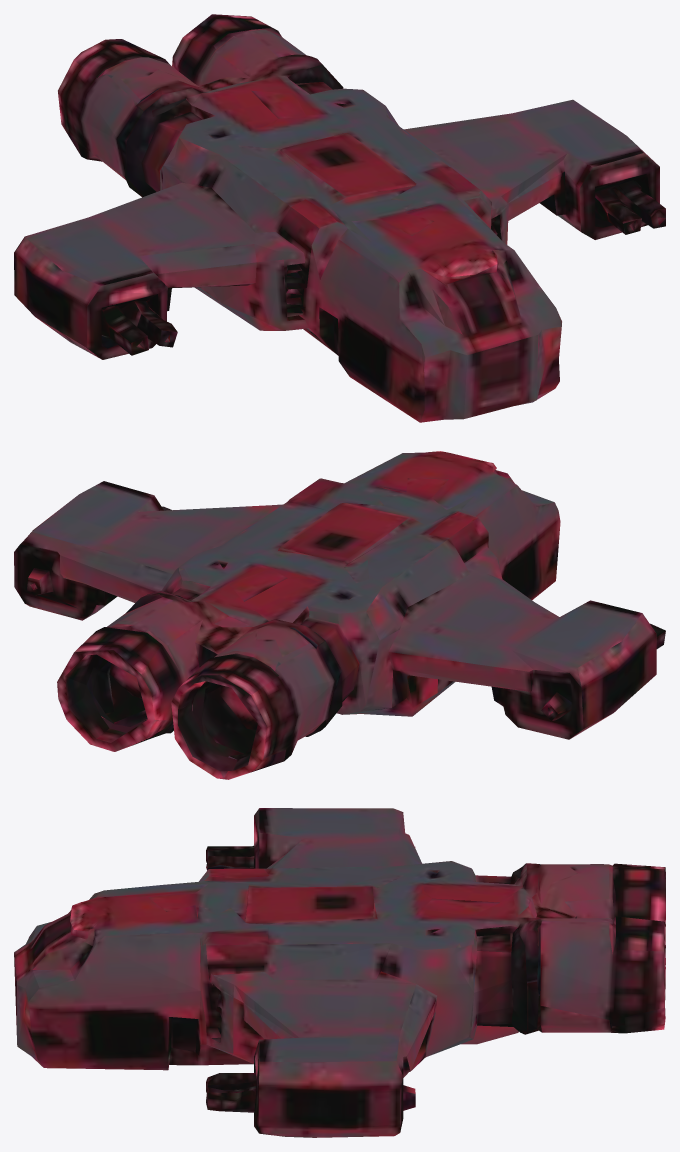
Rendered from enemy-heavy-s10.glb.
The picture shows the model from 3 angles, top to bottom: view 1: azimuth 30°, elevation 25°; view 2: azimuth 150°, elevation 25°; view 3: azimuth 270°, elevation 25°; orthographic projection. The views are drawn at different scales.
Visible parts, largest first — view 1: 9adbb147-c497-479b-8c6b-6f7a91005b4a_texturing.obj; view 2: 9adbb147-c497-479b-8c6b-6f7a91005b4a_texturing.obj; view 3: 9adbb147-c497-479b-8c6b-6f7a91005b4a_texturing.obj.
Boxes of the visible parts, <box> form: 9adbb147-c497-479b-8c6b-6f7a91005b4a_texturing.obj: <box>14,14,665,422</box>; 9adbb147-c497-479b-8c6b-6f7a91005b4a_texturing.obj: <box>14,451,665,779</box>; 9adbb147-c497-479b-8c6b-6f7a91005b4a_texturing.obj: <box>14,808,665,1137</box>.
Size of the model in its own units: 1.99 by 0.486 by 1.99.
Materials: 1 (1 with a texture image).
